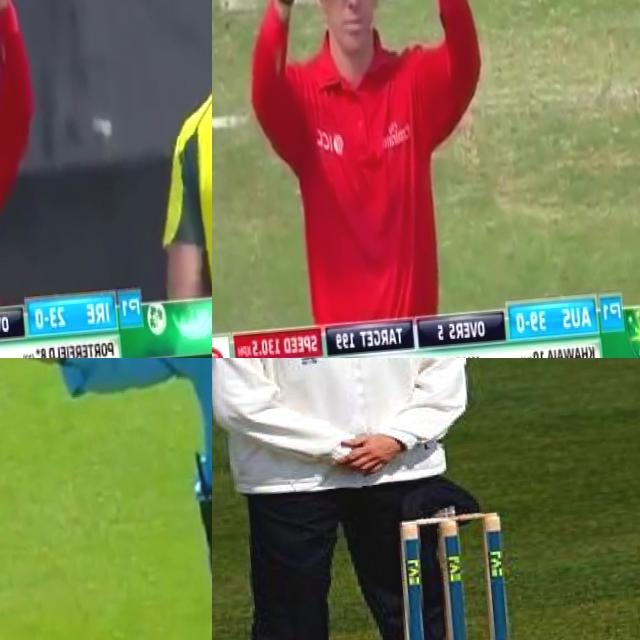No_Action: (212, 358, 515, 640)
No_Ball: (0, 358, 212, 640)
Six: (225, 0, 511, 336), (0, 0, 57, 328)
